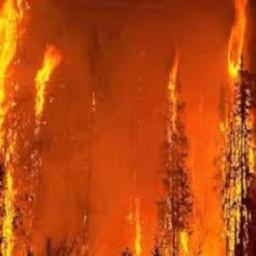Heavy smoke: (73, 3, 157, 255)
Medium fire: (1, 0, 66, 256), (227, 0, 256, 256), (163, 51, 194, 256)
